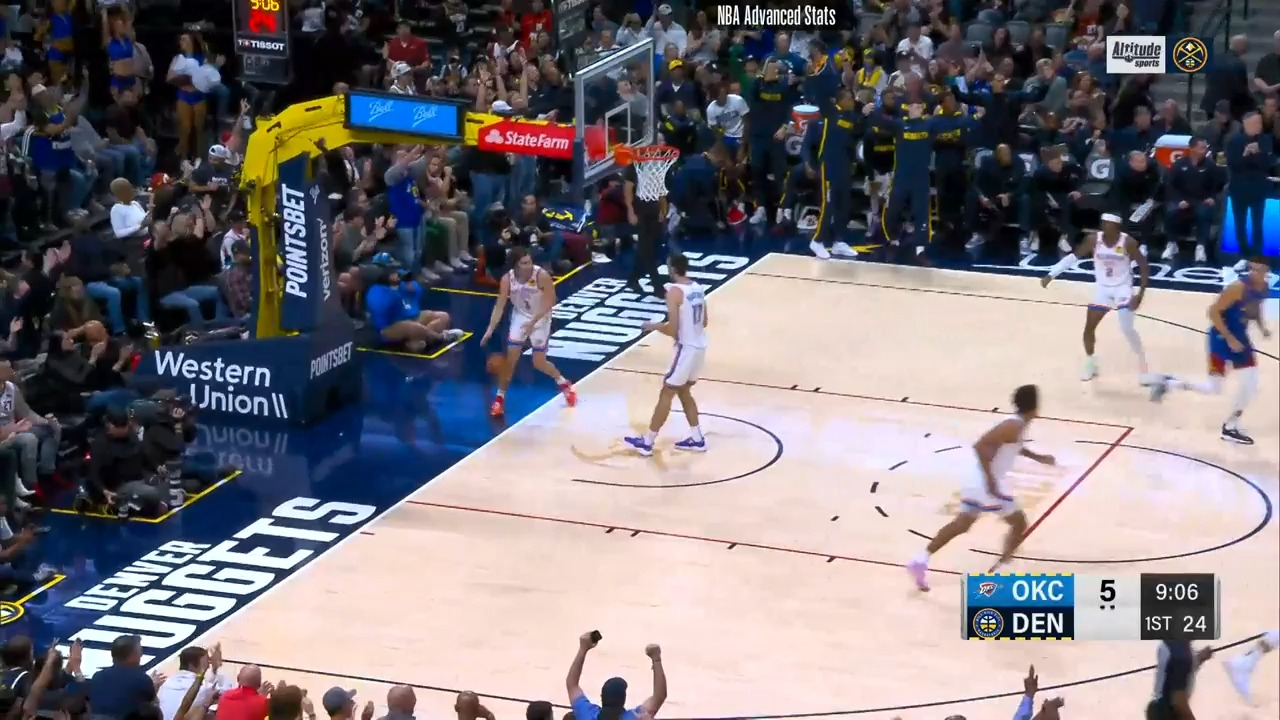net: (615, 137, 681, 199)
player: (907, 383, 1066, 594), (1156, 251, 1280, 452), (1065, 215, 1168, 398), (487, 242, 583, 426), (642, 254, 722, 462)
referee: (623, 140, 677, 300)
